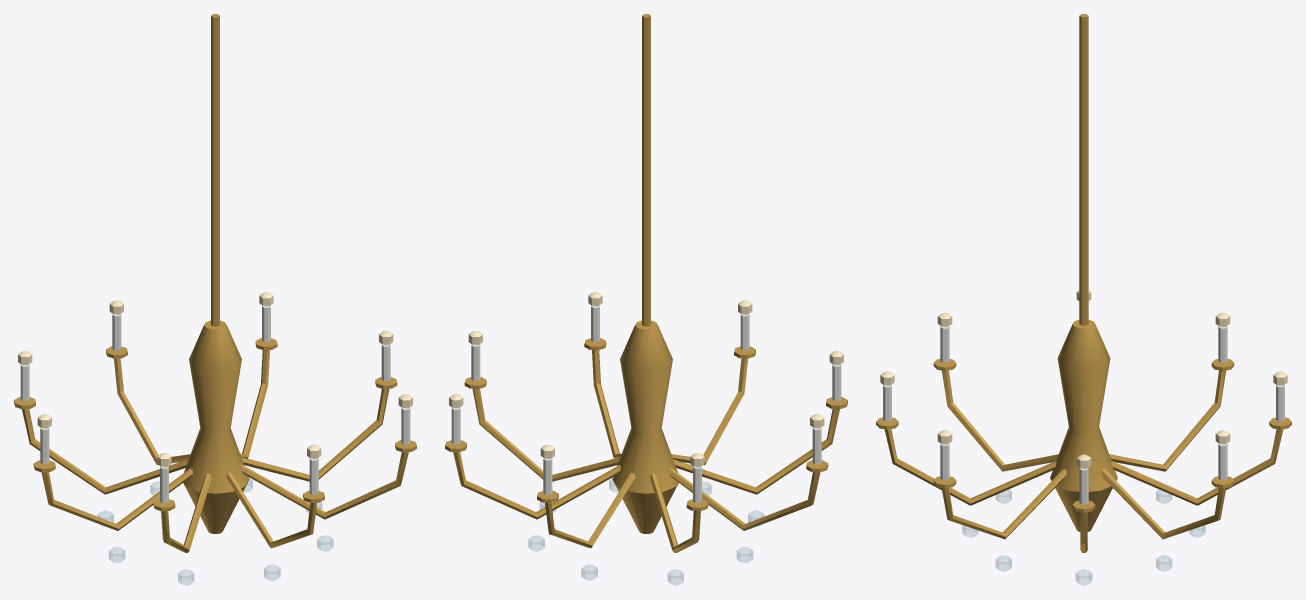
File: hospitality.function.chandelier.glb
3 views of the same model, side by side, from view 1: azimuth 30°, elevation 25°; view 2: azimuth 150°, elevation 25°; view 3: azimuth 270°, elevation 25° (orthographic).
Parts seen in each view (by area): view 1: main__brass, main__paint_white, main__glow, main__glass; view 2: main__brass, main__paint_white, main__glow, main__glass; view 3: main__brass, main__paint_white, main__glow, main__glass.
Part boxes in pixels (x1,y1,x2,y2): main__brass: (14,14,416,552); main__paint_white: (20,305,410,503); main__glow: (18,292,412,467); main__glass: (97,478,333,585); main__brass: (445,14,847,552); main__paint_white: (451,305,841,503); main__glow: (449,292,843,467); main__glass: (528,478,764,585); main__brass: (876,14,1291,552); main__paint_white: (883,326,1284,504); main__glow: (880,290,1287,469); main__glass: (962,489,1205,585).
Size of the model in its own units: 1.1 by 1.52 by 1.1.
